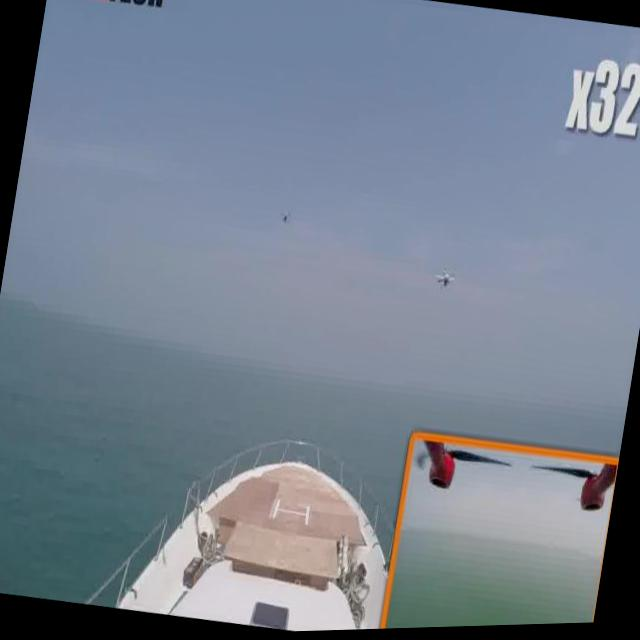drone: (432, 260, 462, 306), (275, 199, 301, 233)
